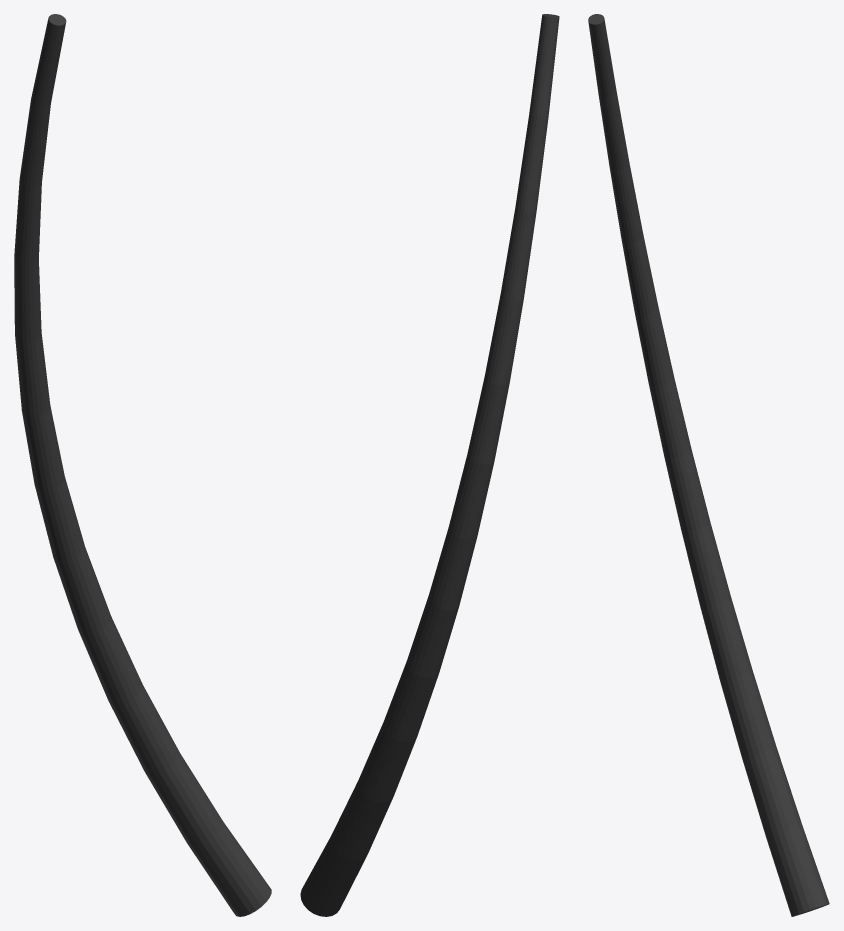
Rendered from n_VII_auriculopalpebral_zygomatic_br.glb.
The picture shows the model from 3 angles, left to right: view 1: azimuth 30°, elevation 25°; view 2: azimuth 150°, elevation 25°; view 3: azimuth 330°, elevation 25°; orthographic projection. The views are drawn at different scales.
Parts seen in each view (by area): view 1: n_VII_auriculopalpebral_zygomatic_br; view 2: n_VII_auriculopalpebral_zygomatic_br; view 3: n_VII_auriculopalpebral_zygomatic_br.
Part boxes in pixels (x1=…): n_VII_auriculopalpebral_zygomatic_br: x1=14, y1=14, x2=271, y2=916; n_VII_auriculopalpebral_zygomatic_br: x1=300, y1=14, x2=559, y2=916; n_VII_auriculopalpebral_zygomatic_br: x1=588, y1=14, x2=829, y2=916.
Bounding box in the file's own units: 0.00189 × 0.00714 × 0.000833.
Materials: 1 (1 with a texture image).
